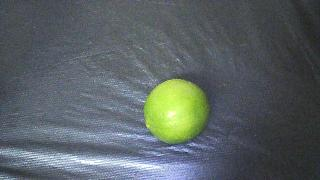LOCAL: (143, 79, 210, 144)
